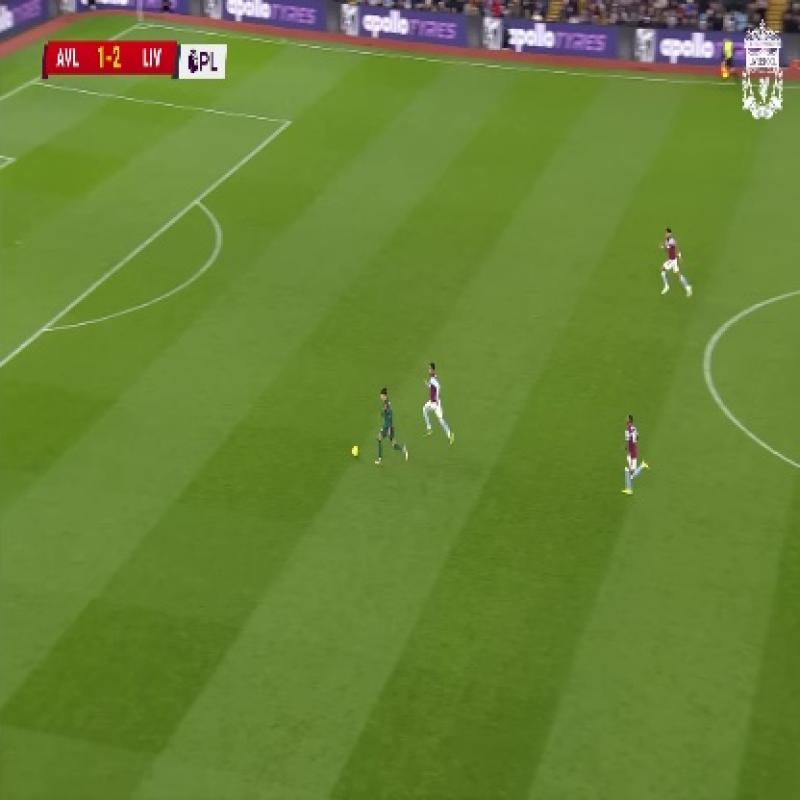1: (129, 12, 156, 32)
10: (184, 186, 206, 212)
11: (33, 314, 54, 340)
2: (25, 70, 42, 90)
7: (2, 146, 21, 169)
9: (277, 108, 296, 132)
c: (684, 324, 736, 382)
